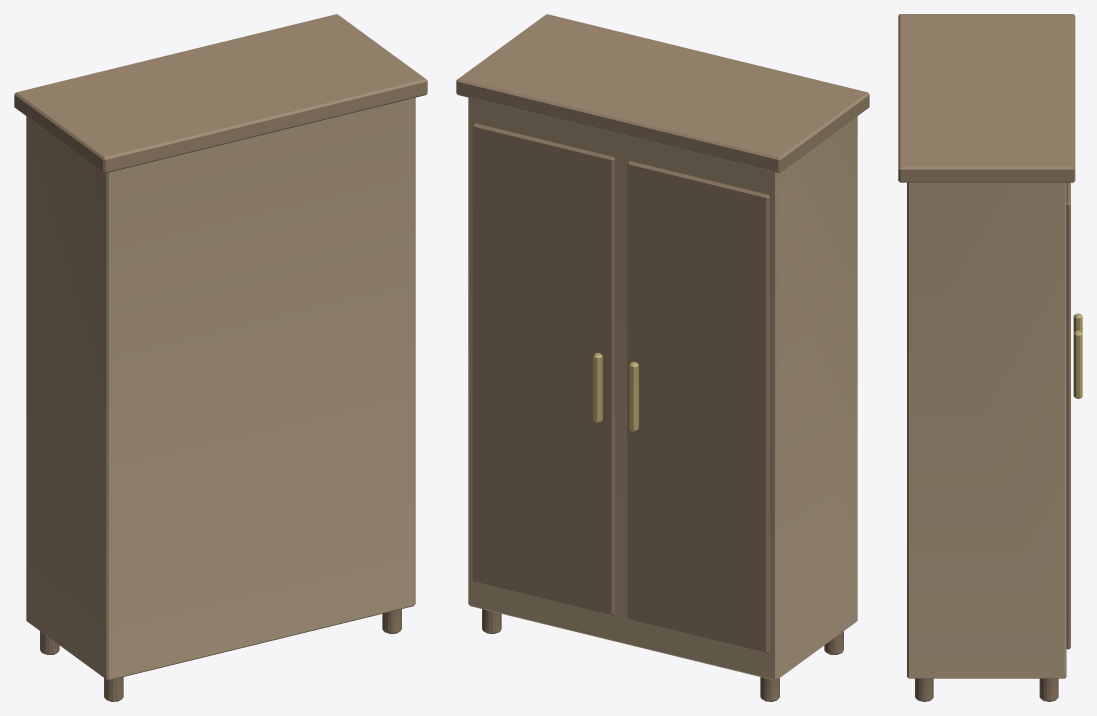
The model's file is furn_wardrobe__oak.glb.
The picture shows the model from 3 angles, left to right: view 1: azimuth 30°, elevation 25°; view 2: azimuth 150°, elevation 25°; view 3: azimuth 270°, elevation 25°; orthographic projection. The views are drawn at different scales.
Size of the model in its own units: 1.26 by 2.06 by 0.6354.
